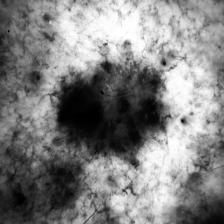Benign Marking or Mole: (55, 59, 163, 161)
